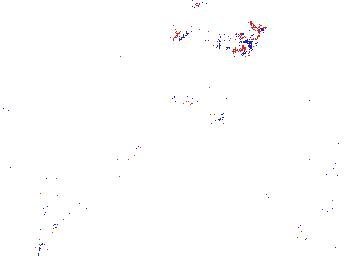glassfish: (40, 141, 146, 185)
red belly glassfish: (170, 107, 226, 128), (172, 85, 218, 107), (245, 21, 274, 45)
redtail glassfish: (171, 21, 249, 47)
